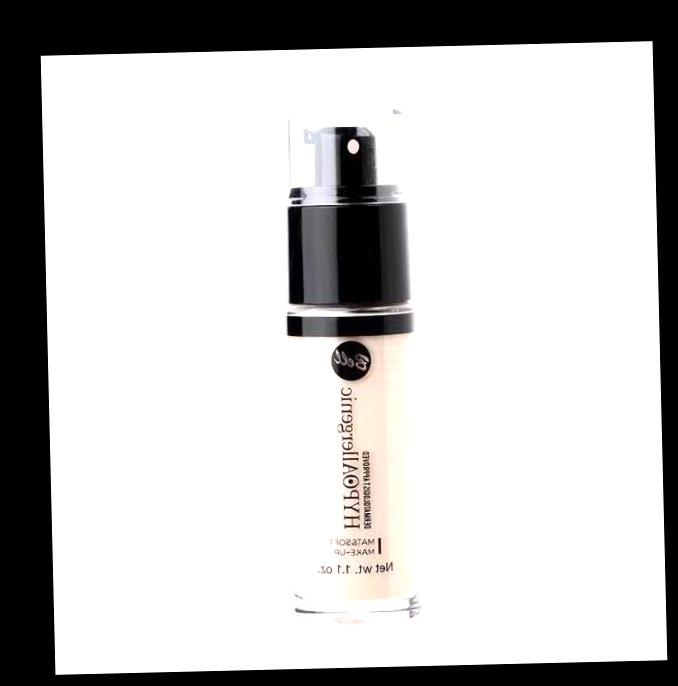cosmetic: (281, 106, 421, 626)
